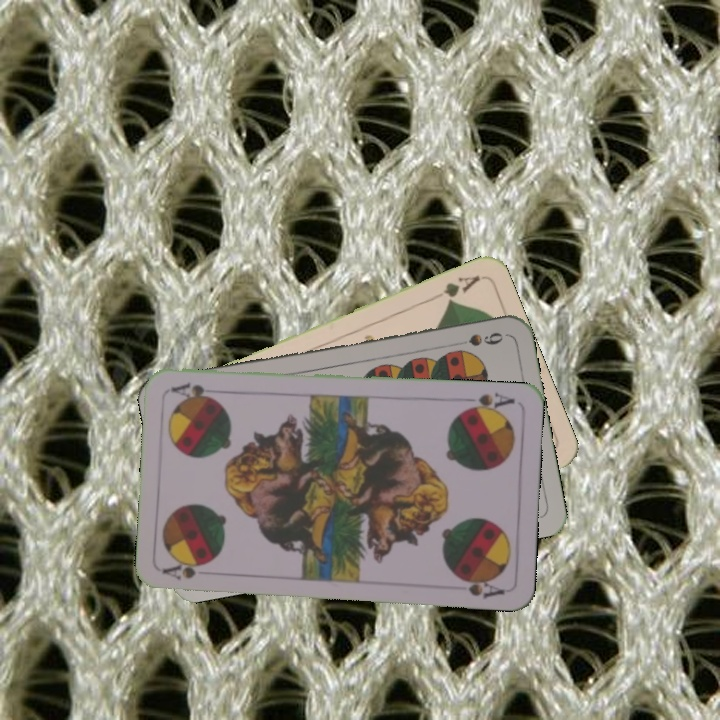GA: (440, 271, 483, 306)
S9: (448, 328, 506, 350)
SA: (458, 388, 518, 416), (160, 559, 209, 582)
